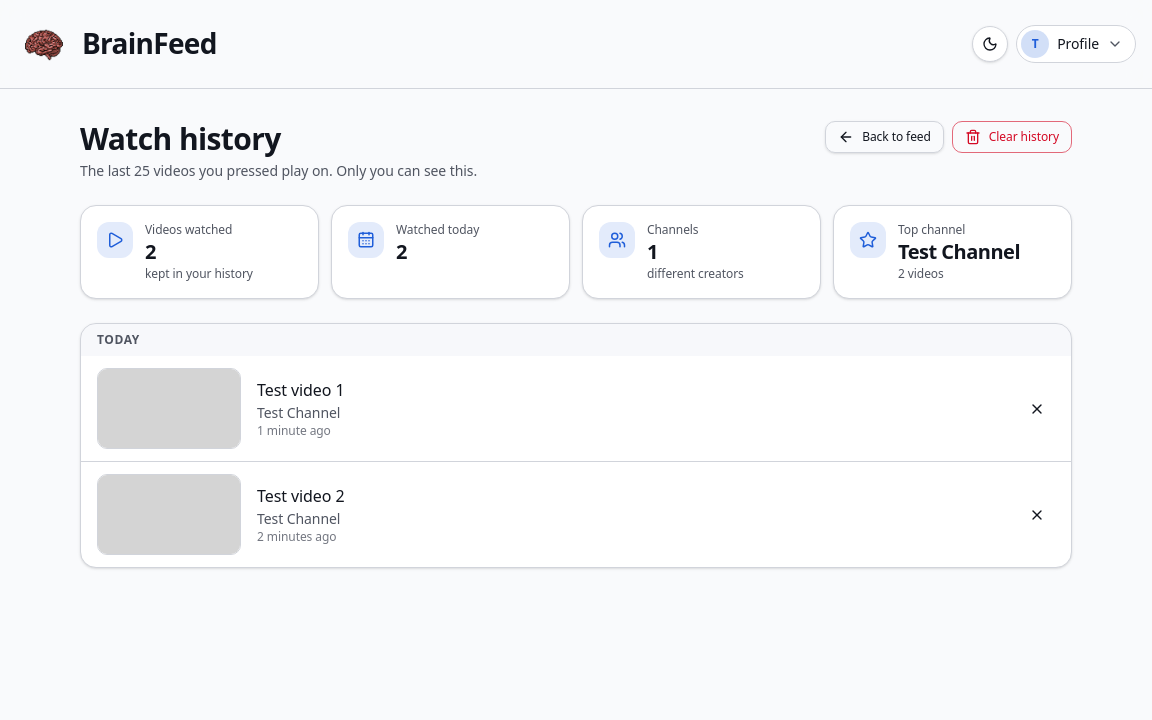
it: WatchHistoryPage › removes one video
Click the button named "Remove Test video 1 from your history": point(1037, 408) [1019,390,1055,426]
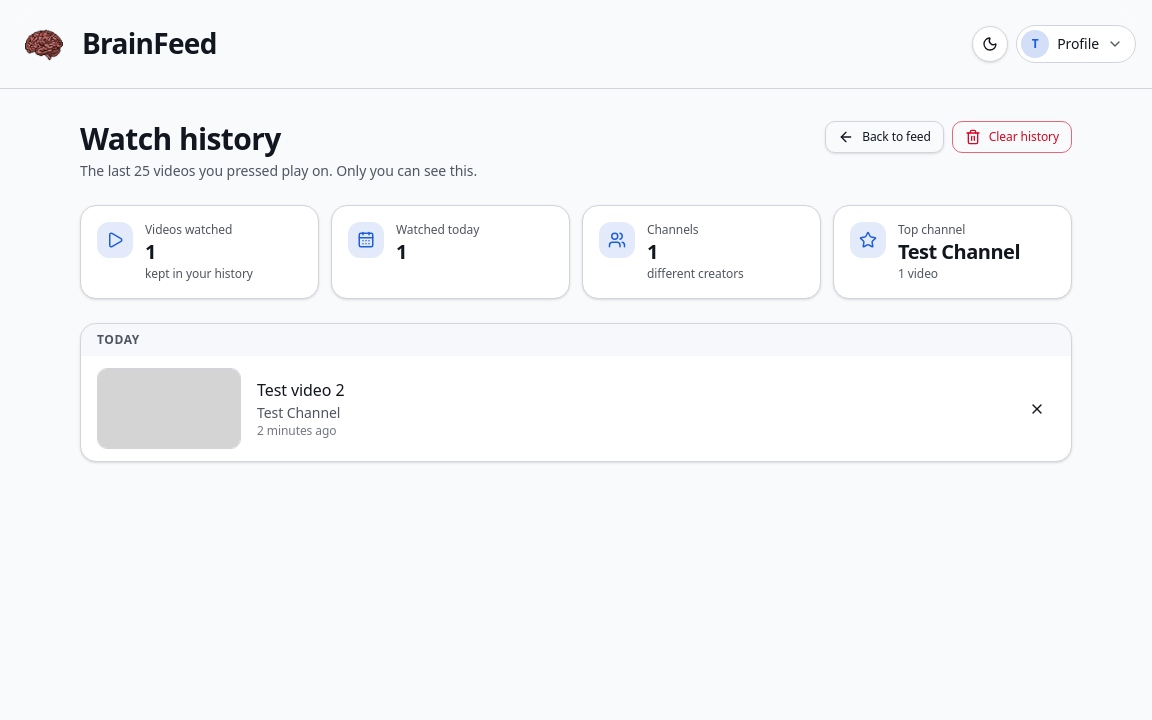
Expected: the button "Test video 2" is shown, [257,378,345,403]
Now the button "Test video 1" is gone
